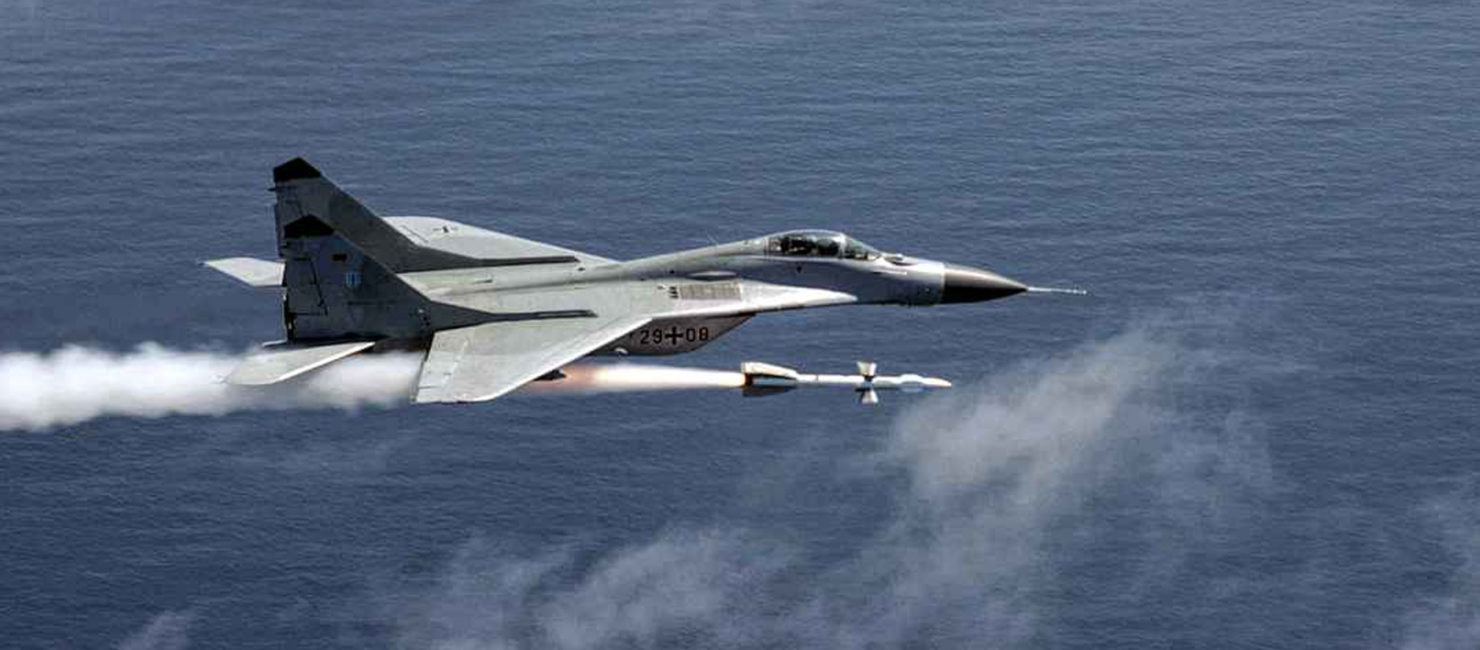Mig-29: (190, 106, 1127, 548)
